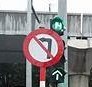No_turn_left: (21, 27, 64, 69)
